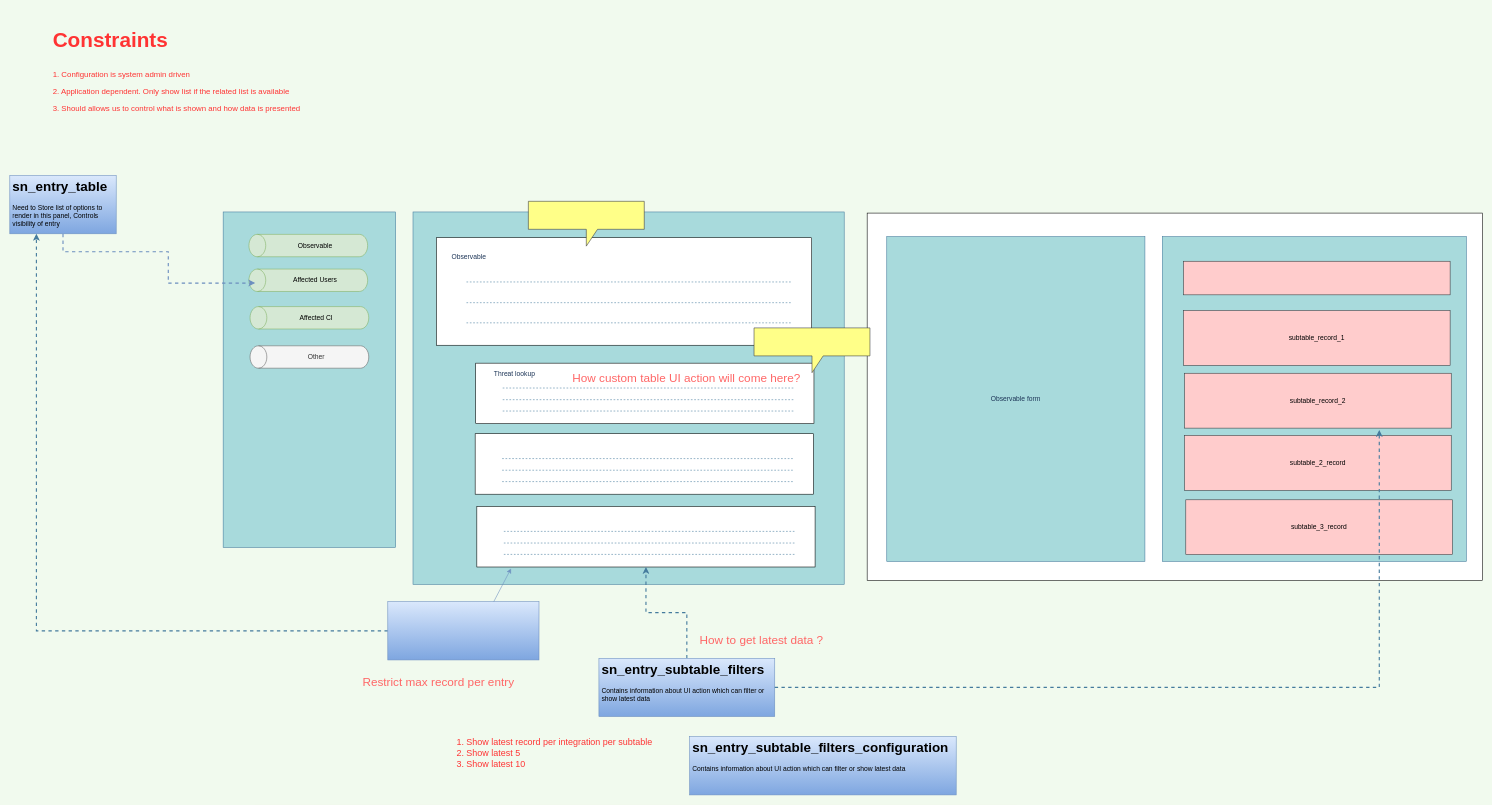
This 1492x805 diagram has some shape labels left out. Each missing label, with the box of its shape:
Do we really need multi section here?: (528, 201, 644, 246)
Filters: (1183, 261, 1450, 295)
Observable Entrichment: (476, 506, 815, 567)
Sighting Search: (475, 433, 813, 494)
sn_entry_subtable Need to Store list of options to render in this panel: (387, 601, 539, 660)
We need to create action for out of the box tables: (753, 327, 870, 373)
